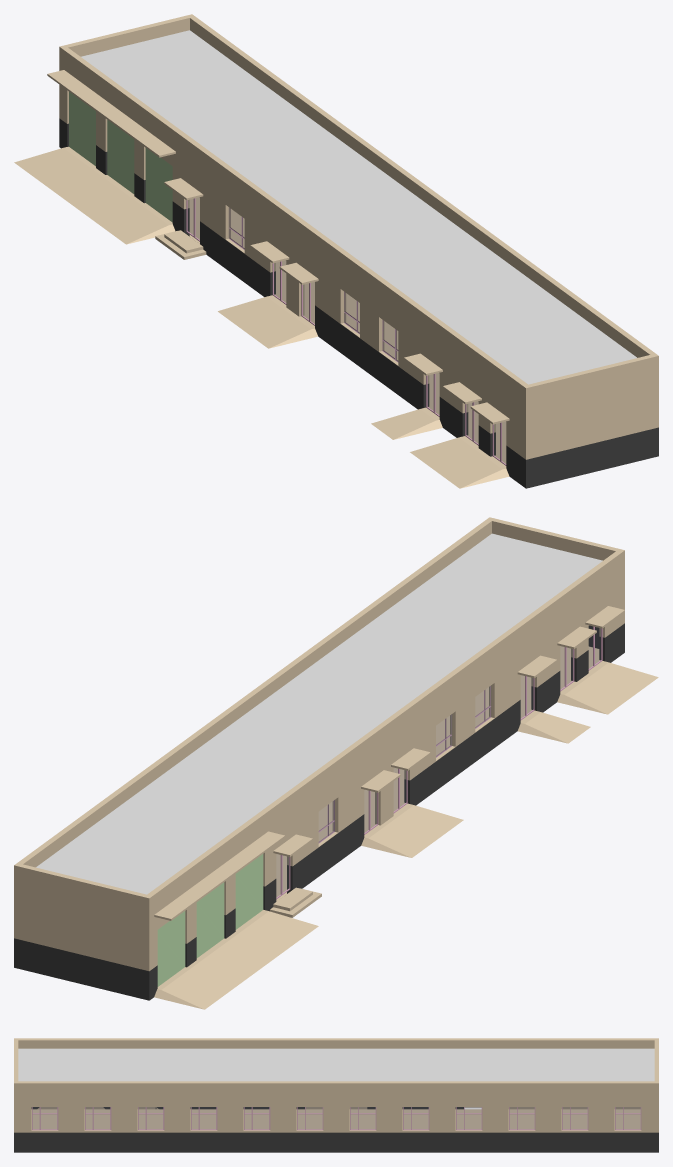
File: House03.gltf
3 renders of one model, top to bottom at view 1: azimuth 30°, elevation 25°; view 2: azimuth 150°, elevation 25°; view 3: azimuth 270°, elevation 25°, orthographic. The views are drawn at different scales.
Visible parts, largest first — view 1: wall-材质, rr, wall-材质.1, Door, glass, win; view 2: wall-材质, rr, wall-材质.1, Door, glass, win; view 3: wall-材质, rr, wall-材质.1, glass, win.
Boxes of the visible parts, x1=… form: wall-材质: x1=14, y1=14, x2=658, y2=488; rr: x1=81, y1=30, x2=636, y2=384; wall-材质.1: x1=59, y1=118, x2=658, y2=488; Door: x1=69, y1=92, x2=172, y2=222; glass: x1=188, y1=197, x2=505, y2=463; win: x1=186, y1=198, x2=506, y2=465; wall-材质: x1=14, y1=517, x2=658, y2=1009; rr: x1=36, y1=533, x2=602, y2=894; wall-材质.1: x1=14, y1=623, x2=624, y2=1000; Door: x1=157, y1=854, x2=263, y2=986; glass: x1=276, y1=626, x2=600, y2=896; win: x1=276, y1=626, x2=602, y2=899; wall-材质: x1=14, y1=1038, x2=658, y2=1132; rr: x1=18, y1=1048, x2=654, y2=1081; wall-材质.1: x1=14, y1=1107, x2=658, y2=1152; glass: x1=33, y1=1107, x2=640, y2=1128; win: x1=32, y1=1107, x2=641, y2=1130.
Bounding box in the file's own units: 990 × 520 × 4380.
